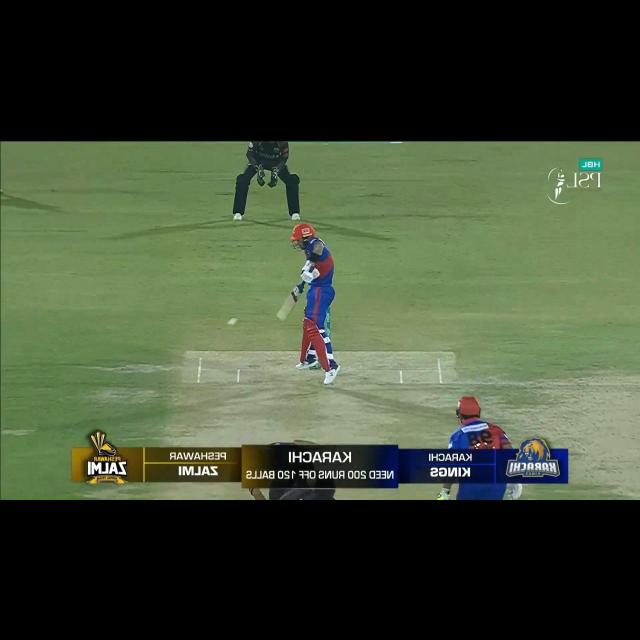bat: (277, 285, 306, 323)
toe: (274, 312, 286, 322)
